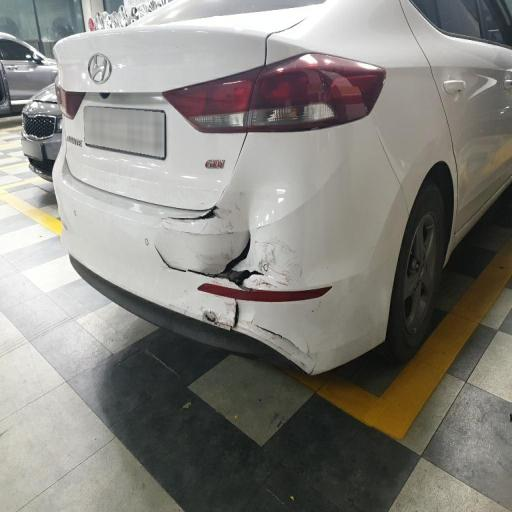broken: (134, 158, 327, 359)
